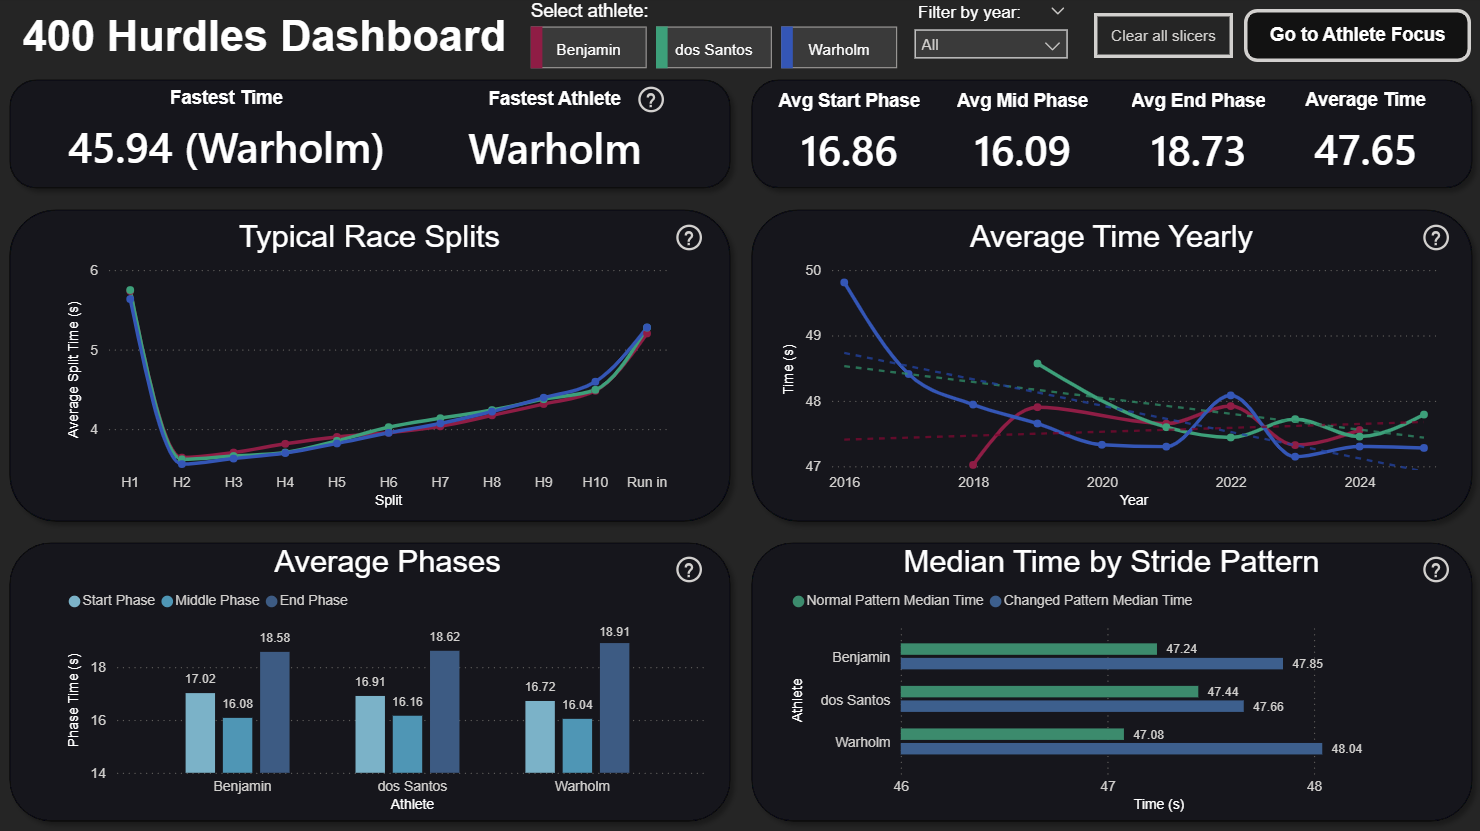

This screenshot's page, from the dashboard's own definition file:
{"tool":"powerbi","page":{"name":"Main Page","canvas":[1280,720],"ordinal":0},"visuals":[{"type":"shape","box":[0,461,640,258.7],"z":0},{"type":"shape","box":[640,461,640,258.7],"z":1000},{"type":"shape","box":[0,174.2,640,287.2],"z":2000},{"type":"shape","box":[640,174.2,640,287.2],"z":3000},{"type":"shape","box":[0,62.3,640,112],"z":4000},{"type":"shape","box":[640,62.2,640,111.9],"z":5000},{"type":"lineChart","title":"Average Time Yearly","fields":{"Category":["df_splits.Year"],"Series":["df_splits.Athlete"],"Y":["Avg(df_splits.Time)"]},"box":[671.1,191.5,577,254.4],"z":6000},{"type":"lineChart","title":"Typical Race Splits","fields":{"Category":["avg_profiles.Split"],"Y":["Avg(avg_profiles.Average Time)"],"Series":["avg_profiles.Athlete"]},"box":[54.3,191.5,530.5,254.4],"z":7000},{"type":"textbox","box":[8.6,7.8,440.8,56.1],"z":8000},{"type":"clusteredColumnChart","title":"Average Phases","fields":{"Category":["df_splits.Athlete"],"Y":["Avg(df_splits.Start_Phase_Total)","Avg(df_splits.Mid_Phase_Total)","Avg(df_splits.End_Phase_Total)"]},"box":[54.3,471.8,561.5,236.3],"z":9000},{"type":"slicer","fields":{"Values":["years_table.Year"]},"box":[779.7,0,151.8,67.3],"z":10000},{"type":"actionButton","box":[944.5,13.8,119.9,38.8],"z":11000},{"type":"cardVisual","fields":{"Data":["_Measures.Fastest Athlete"]},"box":[343.3,63,272.6,105.2],"z":12000},{"type":"cardVisual","fields":{"Data":["_Measures.Fastest Time"]},"box":[8.6,62.1,375.2,106.1],"z":13000},{"type":"cardVisual","fields":{"Data":["_Measures.Average Time"]},"box":[1103.2,63.8,151.8,106.1],"z":14000},{"type":"cardVisual","fields":{"Data":["_Measures.Average Start Phase"]},"box":[653.8,63,159.6,111.3],"z":15000},{"type":"cardVisual","fields":{"Data":["_Measures.Average Middle Phase"]},"box":[807.3,63,151.8,111.3],"z":16000},{"type":"cardVisual","fields":{"Data":["_Measures.Average End Phase"]},"box":[959.1,63,151.8,111.3],"z":17000},{"type":"actionButton","box":[1073.9,10.4,195.8,45.7],"z":18000},{"type":"clusteredBarChart","title":"Median Time by Stride Pattern","fields":{"Y":["_Measures.Normal Median Time","_Measures.Changed Median Time"],"Category":["df_splits_and_strides.Athlete"]},"box":[678.8,471.8,561.5,236.3],"z":19000},{"type":"actionButton","box":[575.3,477.8,40.5,31.9],"z":20000},{"type":"actionButton","box":[1219.6,477.8,40.5,31.9],"z":21000},{"type":"actionButton","box":[575.3,191.5,40.5,31.9],"z":22000},{"type":"actionButton","box":[1219.6,191.5,40.5,31.9],"z":23000},{"type":"actionButton","box":[542.5,72.5,40.5,31.9],"z":24000},{"type":"advancedSlicerVisual","fields":{"Values":["df_splits.Athlete"]},"box":[453.7,3.5,326,63.8],"z":25000}]}

Visuals, with their boxes in screenshot pixels (x1, y1, x2, y2), scaled from the page's 1280x720 canvas onto the 1480x831 screenshot:
shape: Rect(0, 532, 740, 830)
shape: Rect(740, 532, 1479, 830)
shape: Rect(0, 201, 740, 533)
shape: Rect(740, 201, 1479, 533)
shape: Rect(0, 72, 740, 201)
shape: Rect(740, 72, 1479, 201)
"Average Time Yearly" lineChart: Rect(776, 221, 1443, 515)
"Typical Race Splits" lineChart: Rect(63, 221, 676, 515)
textbox: Rect(10, 9, 520, 74)
"Average Phases" clusteredColumnChart: Rect(63, 545, 712, 817)
slicer - years_table.Year: Rect(902, 0, 1077, 78)
actionButton: Rect(1092, 16, 1231, 61)
cardVisual - _Measures.Fastest Athlete: Rect(397, 73, 712, 194)
cardVisual - _Measures.Fastest Time: Rect(10, 72, 444, 194)
cardVisual - _Measures.Average Time: Rect(1276, 74, 1451, 196)
cardVisual - _Measures.Average Start Phase: Rect(756, 73, 940, 201)
cardVisual - _Measures.Average Middle Phase: Rect(933, 73, 1109, 201)
cardVisual - _Measures.Average End Phase: Rect(1109, 73, 1284, 201)
actionButton: Rect(1242, 12, 1468, 65)
"Median Time by Stride Pattern" clusteredBarChart: Rect(785, 545, 1434, 817)
actionButton: Rect(665, 551, 712, 588)
actionButton: Rect(1410, 551, 1457, 588)
actionButton: Rect(665, 221, 712, 258)
actionButton: Rect(1410, 221, 1457, 258)
actionButton: Rect(627, 84, 674, 120)
advancedSlicerVisual - df_splits.Athlete: Rect(525, 4, 902, 78)
